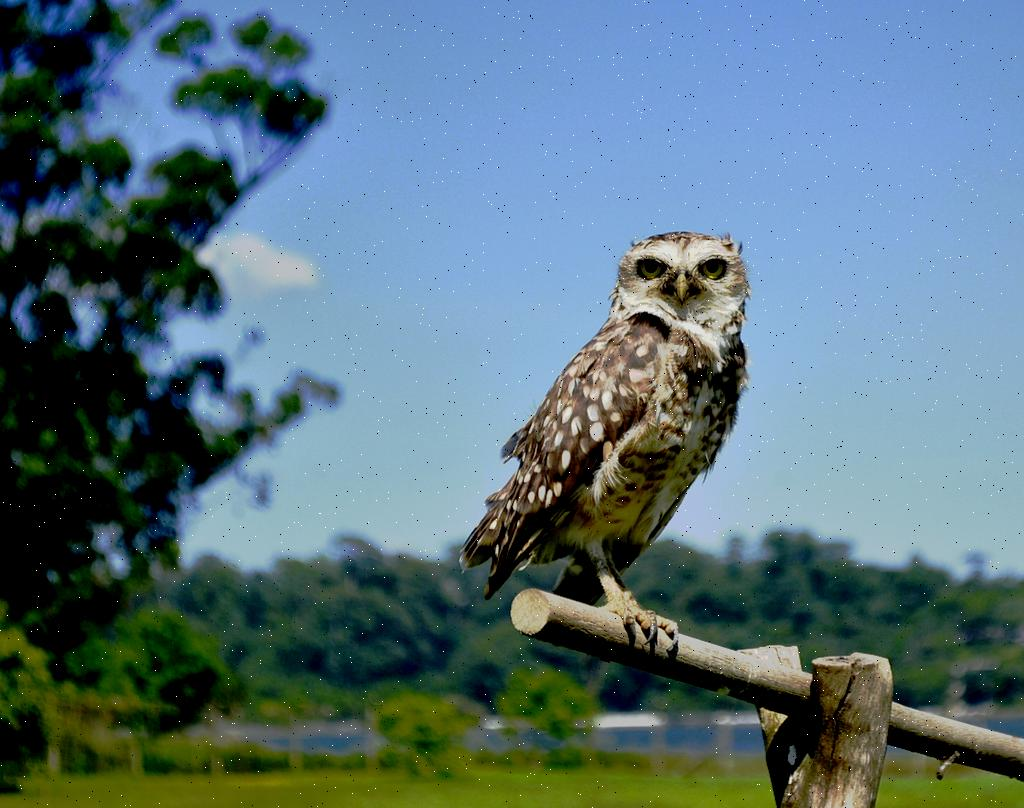Owl: (457, 228, 749, 654)
